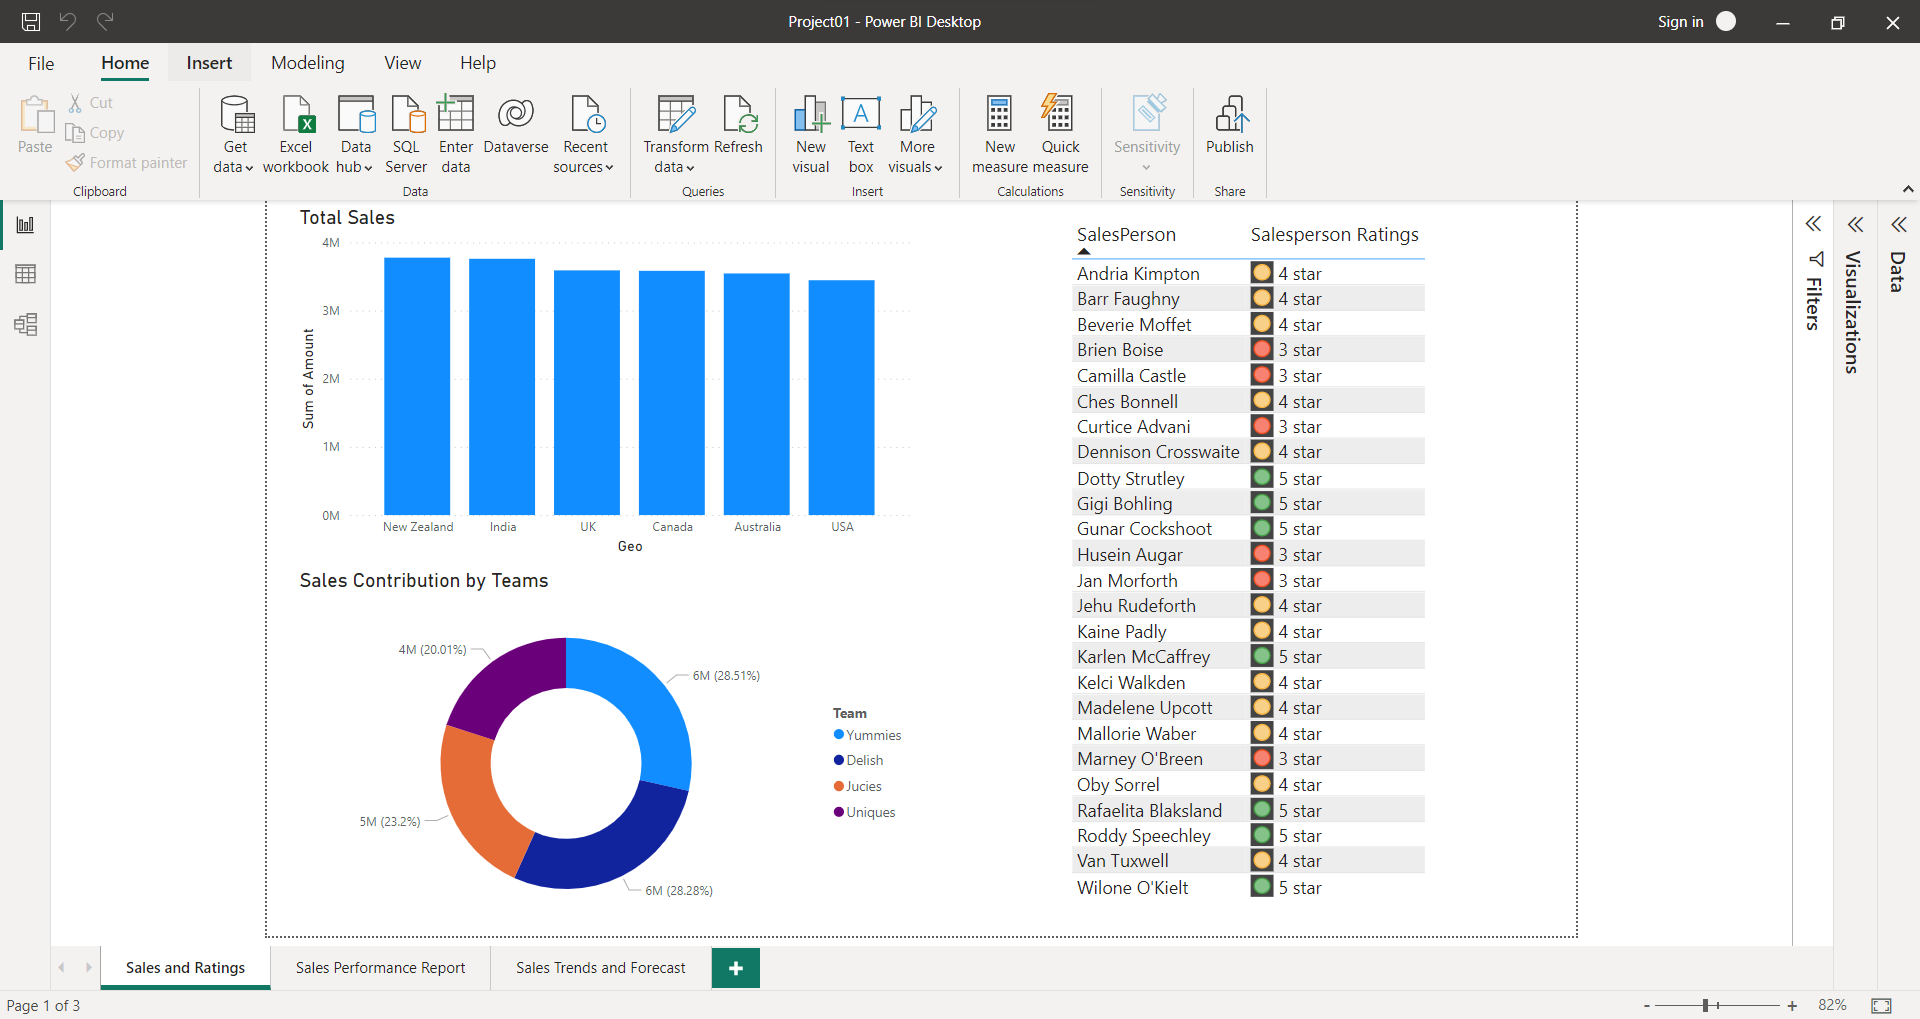

This screenshot's page, from the dashboard's own definition file:
{"tool":"powerbi","page":{"name":"Sales and Ratings","canvas":[1280,720],"ordinal":0},"visuals":[{"type":"columnChart","title":"Total Sales ","fields":{"Category":["locations.Geo"],"Y":["sales.Amount"]},"box":[26.9,6.1,607.5,345.9],"z":0},{"type":"donutChart","title":"Sales Contribution by Teams","fields":{"Category":["people.Team"],"Y":["sales.Amount"]},"box":[27.1,360.6,607.5,359.4],"z":1000},{"type":"tableEx","fields":{"Values":["people.Sales person","sales.Salesperson Ratings"]},"box":[781.1,13.4,391.2,696.8],"z":2000}]}

Visuals, with their boxes on the page's 1280x720 design canvas (x1, y1, x2, y2). These are canvas units, not pixel positions in the 1920x1019 screenshot, which may show the page scaled, cropped or inside an application window:
"Total Sales " columnChart: 27, 6, 634, 352
"Sales Contribution by Teams" donutChart: 27, 361, 635, 720
tableEx - people.Sales person x sales.Salesperson Ratings: 781, 13, 1172, 710
